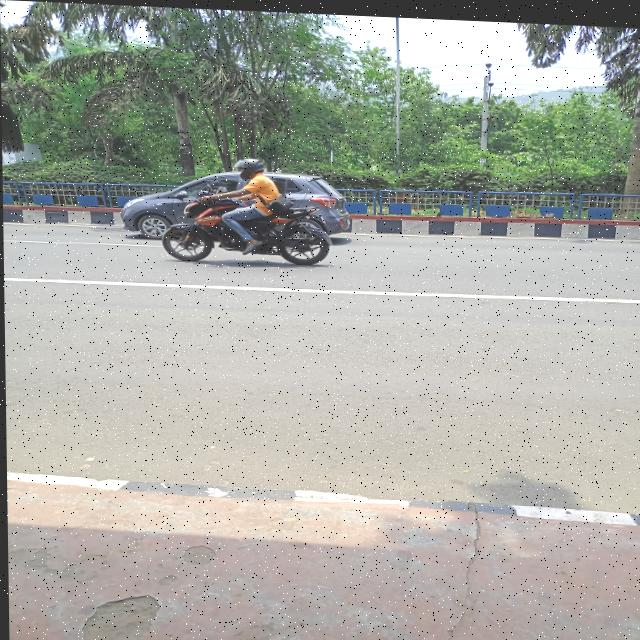bike: (160, 195, 329, 270)
car: (108, 155, 354, 240)
